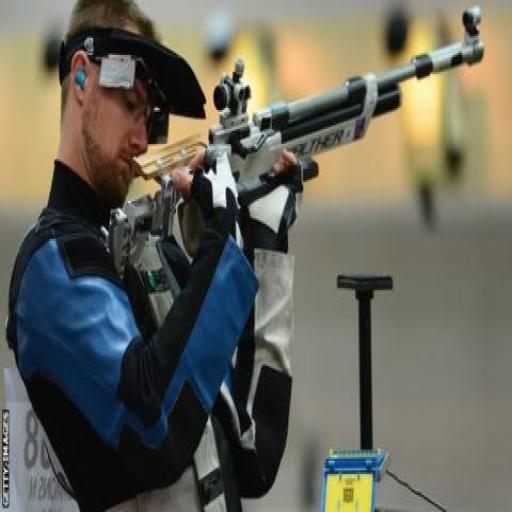shooting: (6, 0, 310, 510)
